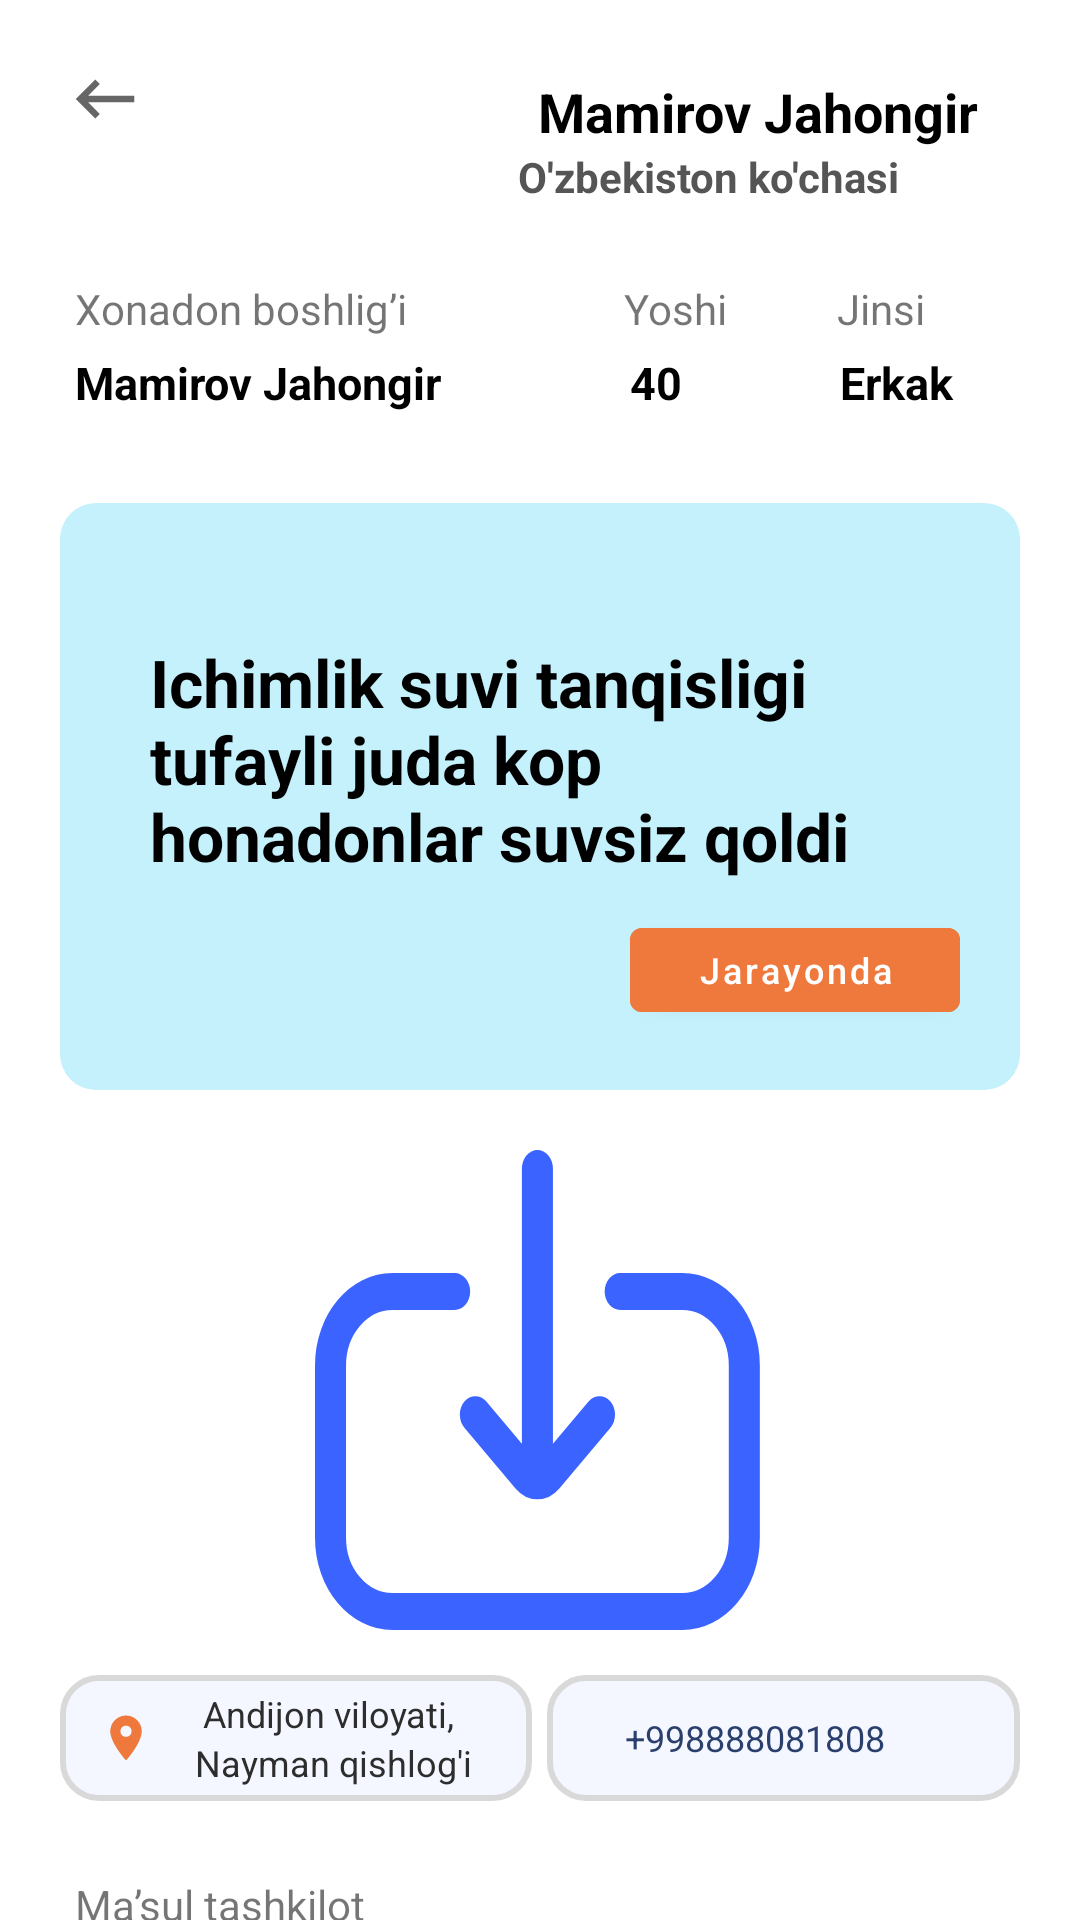

Screen size 1080 x 1920. Icon name, then its center in pixels as [x,y]:
keyboard backspace: [105,99]
location on: [126,1737]
